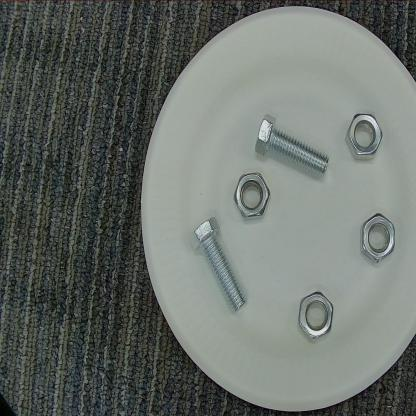FOD: (244, 105, 332, 182), (188, 217, 247, 319), (295, 284, 339, 346), (343, 107, 387, 165), (358, 208, 397, 269), (231, 170, 273, 221)
